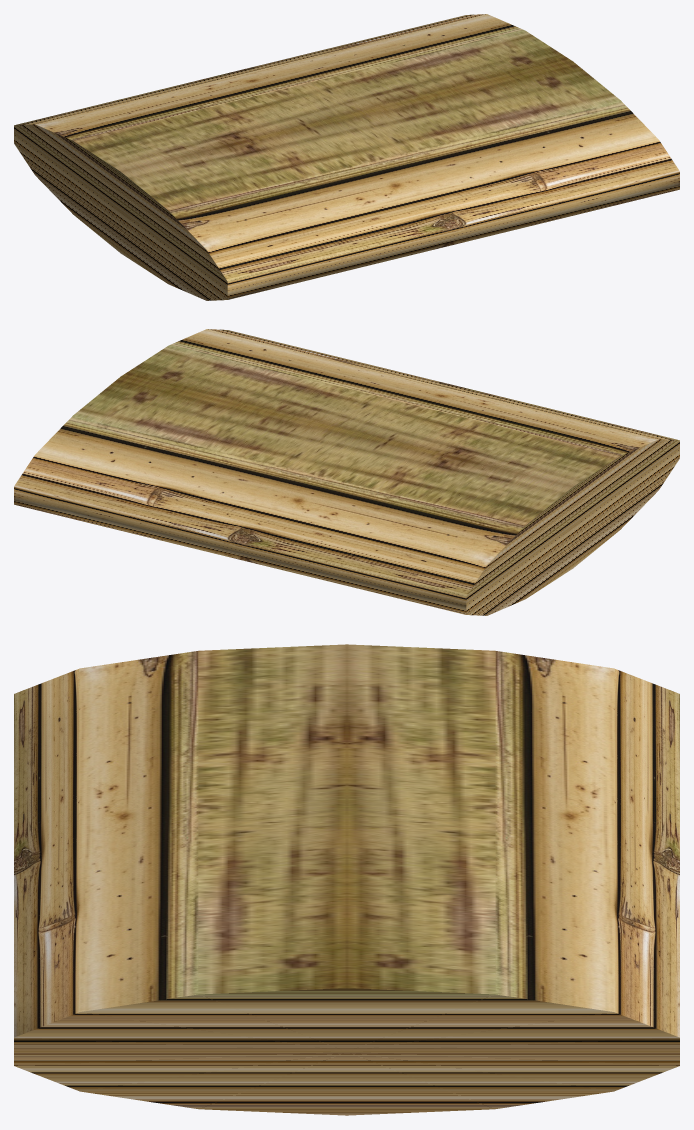
File: bamboo_h.glb
The picture shows the model from 3 angles, top to bottom: view 1: azimuth 30°, elevation 25°; view 2: azimuth 150°, elevation 25°; view 3: azimuth 270°, elevation 25°; orthographic projection. The views are drawn at different scales.
Visible parts, largest first — view 1: Birch_Log_H_Birch; view 2: Birch_Log_H_Birch; view 3: Birch_Log_H_Birch.
Boxes of the visible parts, x1=… form: Birch_Log_H_Birch: x1=14, y1=14, x2=679, y2=300; Birch_Log_H_Birch: x1=14, y1=329, x2=679, y2=615; Birch_Log_H_Birch: x1=14, y1=644, x2=679, y2=1115.
Bounding box in the file's own units: 1 × 0.1729 × 0.8189.
1 material, 1 textured.
